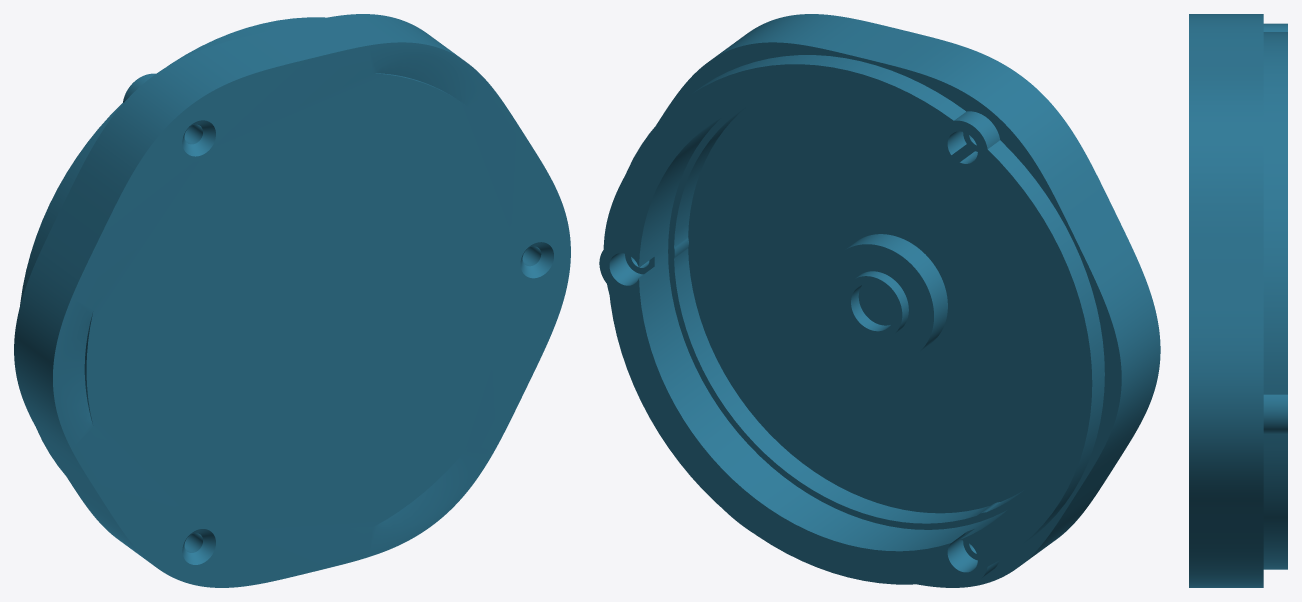
Rendered from Cap_thumb_scoop.obj.
3 renders of one model, left to right at view 1: azimuth 30°, elevation 25°; view 2: azimuth 150°, elevation 25°; view 3: azimuth 270°, elevation 25°, orthographic. The views are drawn at different scales.
Parts seen in each view (by area): view 1: Cap_thumb_scoop; view 2: Cap_thumb_scoop; view 3: Cap_thumb_scoop.
Part boxes in pixels (bbox=[...]): Cap_thumb_scoop: bbox=[14, 14, 570, 587]; Cap_thumb_scoop: bbox=[599, 14, 1160, 587]; Cap_thumb_scoop: bbox=[1189, 14, 1287, 587].
Size of the model in its own units: 61.6 by 58.4 by 10.6.
